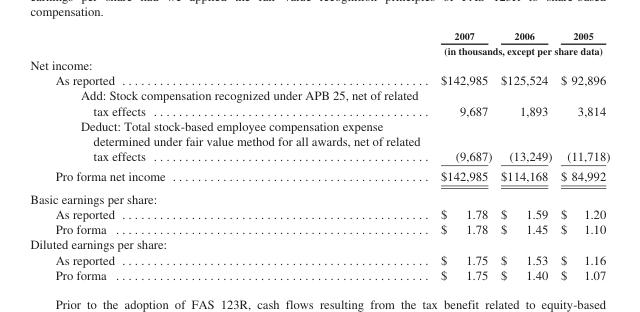table: (29, 29, 609, 281)
table column: (29, 29, 429, 281), (429, 29, 495, 281), (495, 29, 555, 281), (555, 29, 609, 281)
table column header: (29, 29, 609, 56)
table projected row header: (29, 187, 609, 206), (29, 56, 609, 72), (29, 236, 609, 251)
table row: (29, 117, 609, 165), (29, 87, 609, 117), (29, 165, 609, 187), (29, 187, 609, 206), (29, 56, 609, 72), (29, 72, 609, 87), (29, 206, 609, 221), (29, 221, 609, 236), (29, 236, 609, 251), (29, 251, 609, 266), (29, 266, 609, 281), (29, 42, 609, 56), (29, 29, 609, 42)
table spanning cell: (429, 42, 609, 56)
